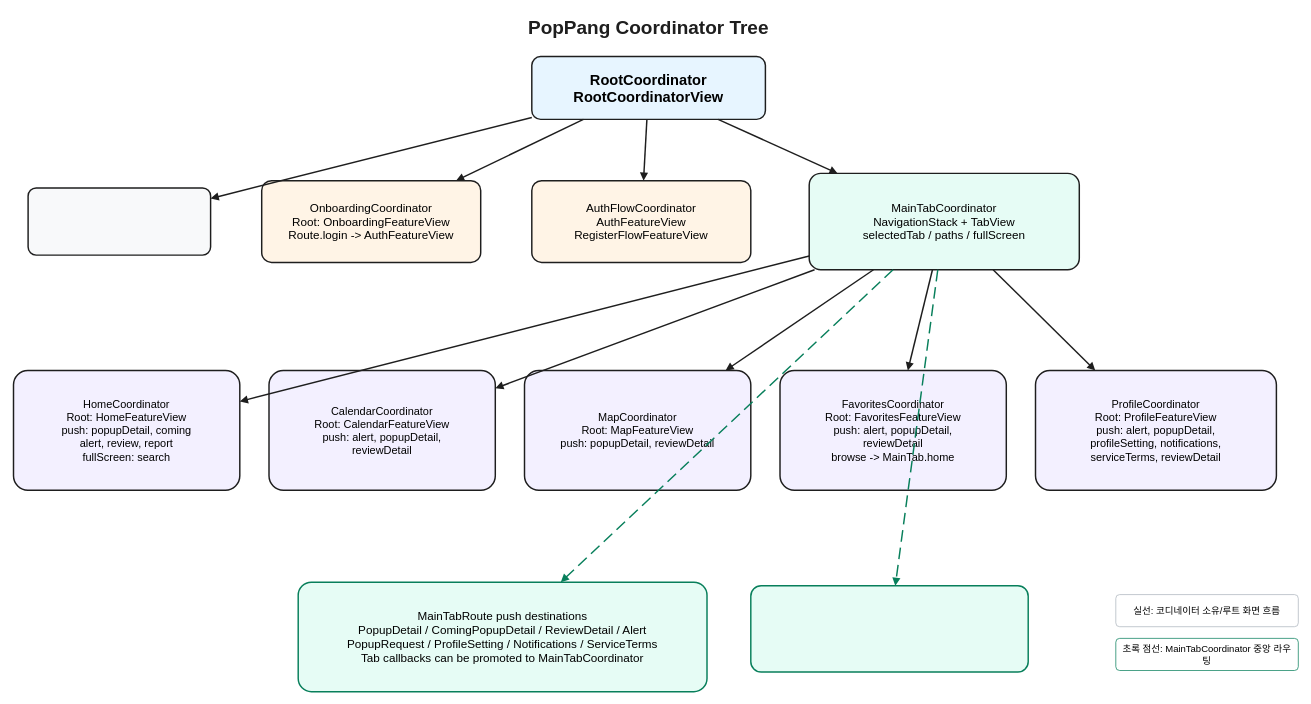
Some shapes in this 1311 by 704 pixel diagram are drawn without their labels. The centre of each missing label's shape, as x and y in pixels:
"destination: launch LaunchScene" belongs at [119,221].
"MainTabFullScreenRoute search -> SearchFeatureView animation: false" belongs at [889,628].
